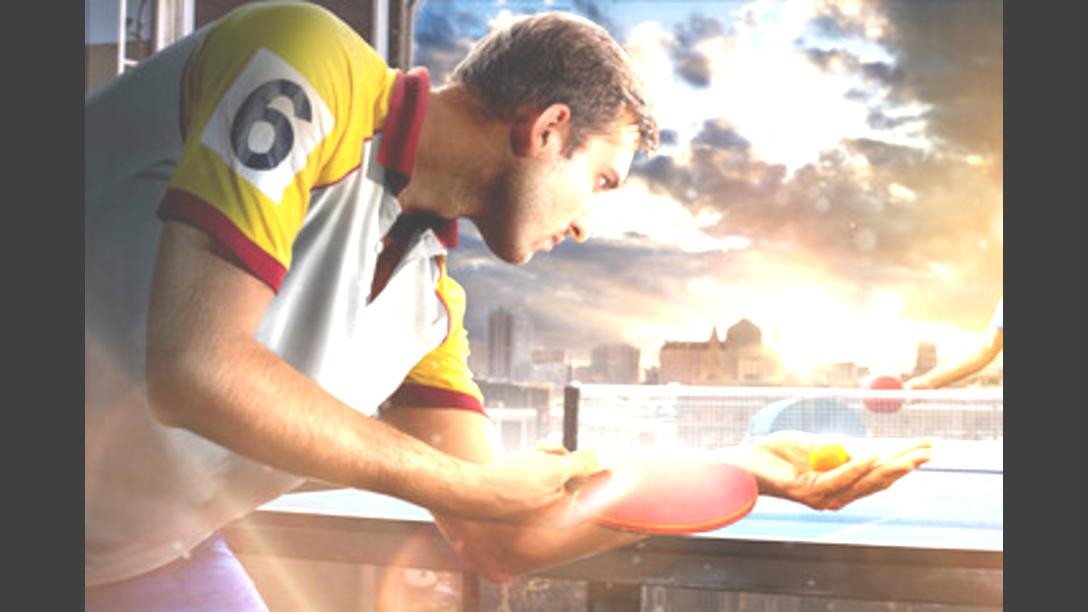Table-Tennis-Ball: (812, 442, 850, 470)
